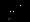person: (10, 7, 18, 21)
